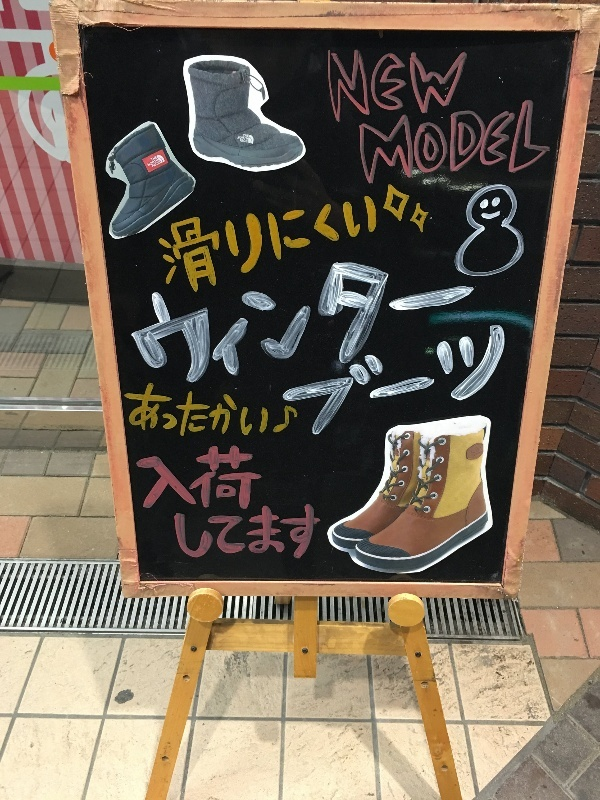text: (129, 253, 144, 403), (145, 253, 160, 403), (161, 253, 176, 403), (177, 253, 192, 403), (193, 253, 208, 403), (209, 253, 224, 403), (225, 253, 240, 403), (241, 253, 256, 403), (257, 253, 272, 403), (273, 253, 288, 403), (289, 253, 304, 403), (305, 253, 320, 403), (321, 253, 336, 403), (337, 253, 352, 403), (353, 253, 368, 403), (369, 253, 384, 403), (385, 253, 400, 403), (401, 253, 416, 403), (417, 253, 432, 403), (433, 253, 448, 403), (449, 253, 464, 403), (497, 313, 513, 452), (465, 253, 479, 403), (289, 313, 304, 452), (305, 313, 320, 452), (321, 313, 336, 452), (337, 313, 352, 452), (353, 313, 368, 452), (369, 313, 384, 452), (385, 313, 400, 452), (401, 313, 416, 452), (417, 313, 432, 452), (433, 313, 448, 452), (449, 313, 464, 452), (465, 313, 480, 452), (481, 313, 496, 452), (161, 189, 176, 308), (177, 189, 192, 308), (193, 189, 208, 308), (209, 189, 224, 308), (225, 189, 240, 308), (241, 189, 256, 308), (257, 189, 272, 308), (273, 189, 288, 308), (289, 189, 304, 308), (305, 189, 320, 308), (321, 189, 336, 308), (337, 189, 352, 308), (353, 189, 368, 308), (545, 91, 561, 191), (353, 91, 368, 191), (369, 91, 384, 191), (385, 91, 400, 191), (401, 91, 416, 191), (417, 91, 432, 191), (433, 91, 448, 191), (449, 91, 464, 191), (465, 91, 480, 191), (481, 91, 496, 191), (497, 91, 512, 191), (513, 91, 528, 191), (529, 91, 544, 191), (369, 189, 381, 308), (337, 41, 352, 127), (353, 41, 368, 127), (369, 41, 384, 127), (385, 41, 400, 127), (401, 41, 416, 127), (417, 41, 432, 127), (433, 41, 448, 127), (449, 41, 464, 127), (145, 450, 160, 524), (161, 450, 176, 524), (177, 450, 192, 524), (193, 450, 208, 524), (209, 450, 224, 524), (225, 450, 240, 524), (241, 450, 256, 524), (129, 374, 144, 447), (145, 374, 160, 447), (161, 374, 176, 447), (177, 374, 192, 447), (193, 374, 208, 447), (209, 374, 224, 447), (225, 374, 240, 447), (241, 374, 256, 447), (257, 374, 272, 447), (177, 505, 192, 574), (193, 505, 208, 574), (209, 505, 224, 574), (225, 505, 240, 574), (241, 505, 256, 574), (257, 505, 272, 574), (273, 505, 288, 574), (289, 505, 304, 574), (305, 505, 320, 574), (281, 313, 288, 452), (326, 41, 336, 127), (133, 450, 144, 524), (465, 41, 474, 127), (154, 189, 160, 308), (257, 450, 266, 524), (168, 505, 176, 574), (122, 374, 128, 447), (321, 505, 327, 574), (147, 158, 160, 168), (243, 133, 256, 139), (273, 374, 274, 447), (151, 161, 160, 169), (150, 155, 160, 162), (241, 136, 249, 141), (241, 139, 248, 144), (238, 136, 240, 141)
